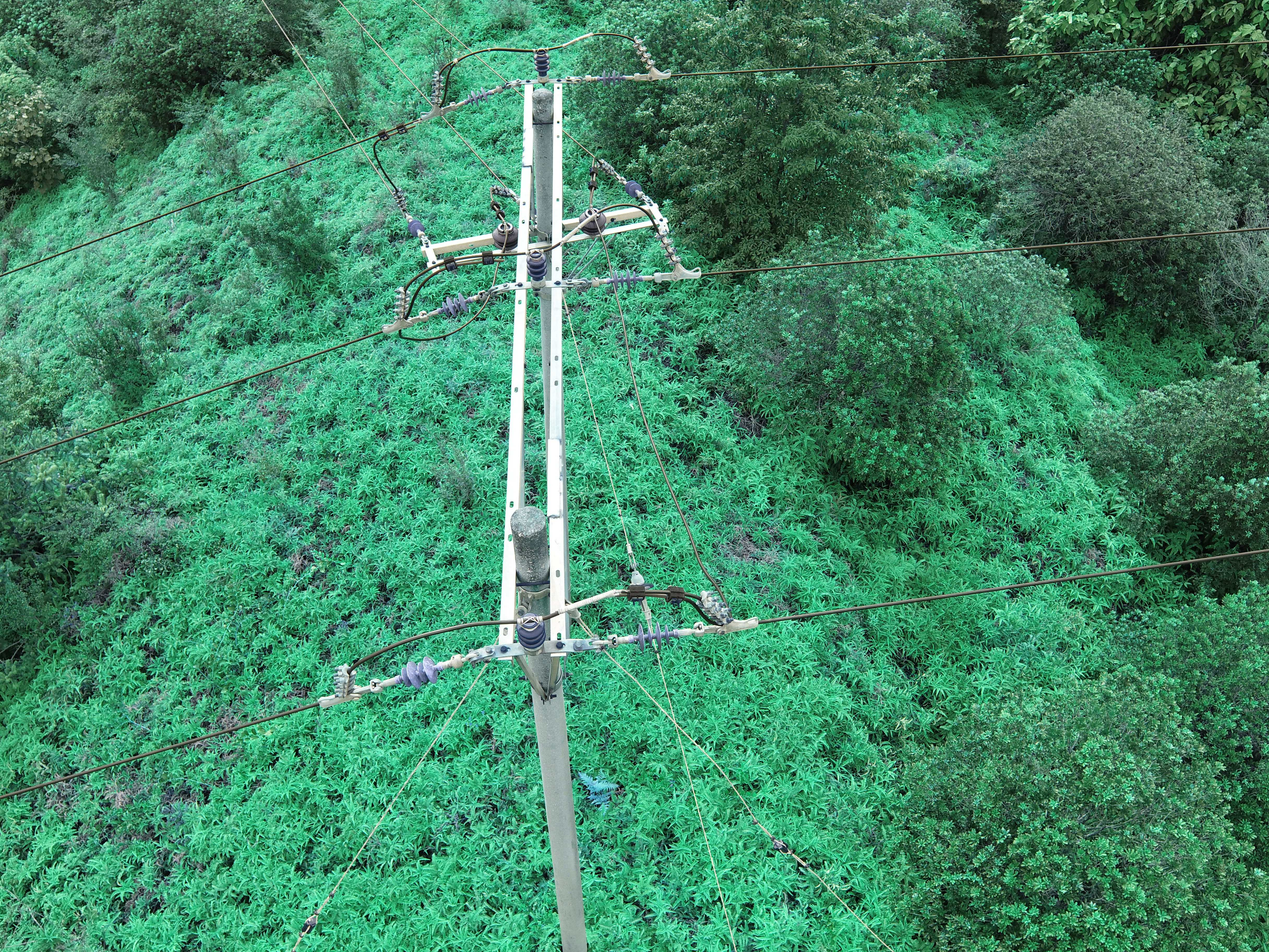severe_soiling_no_discharge_whole: (396, 648, 447, 691), (628, 618, 680, 653)
